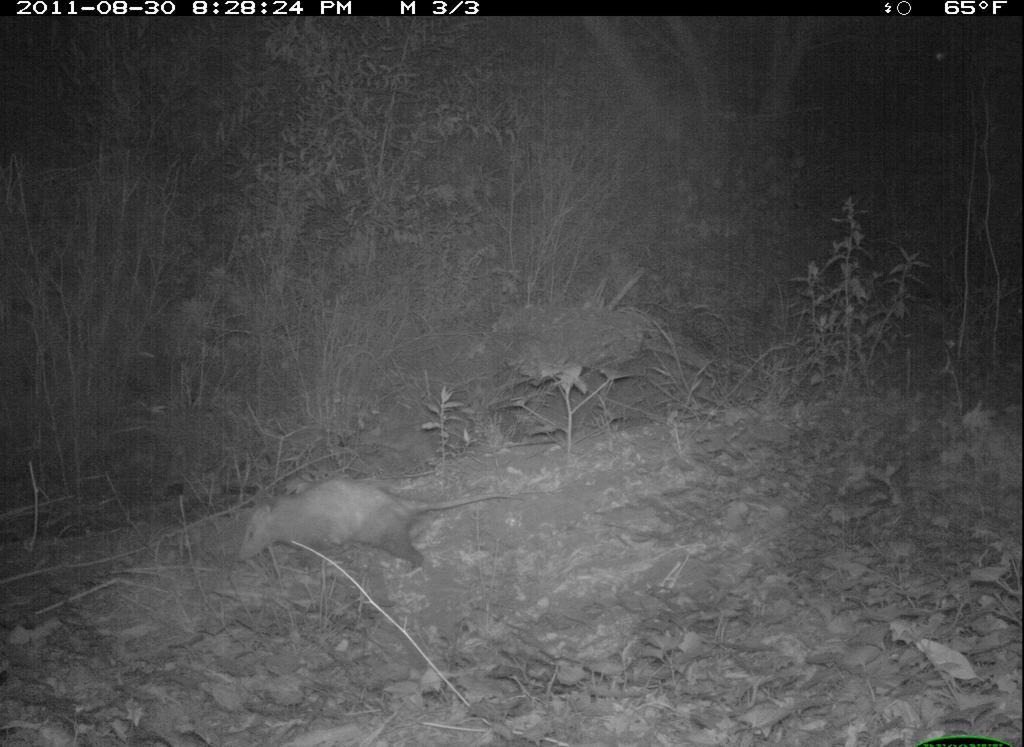opossum: (233, 454, 519, 598)
